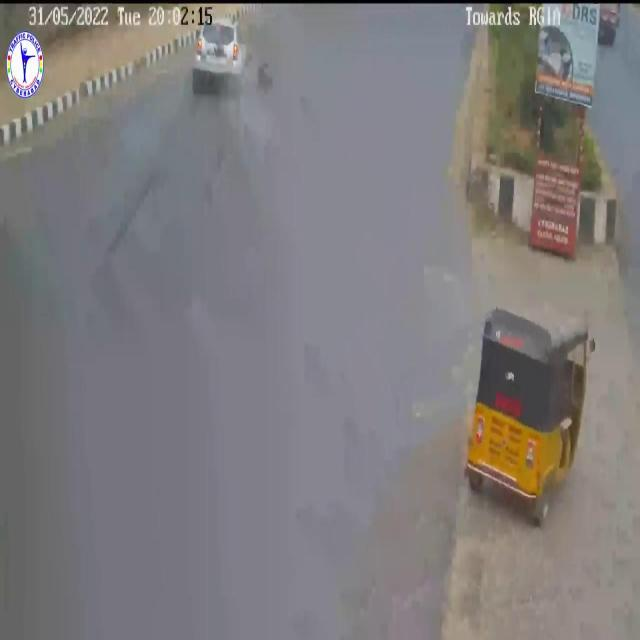accident: (183, 17, 277, 115)
